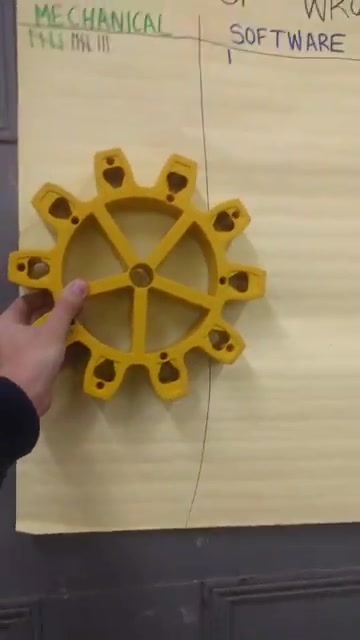gear: (10, 145, 269, 404)
